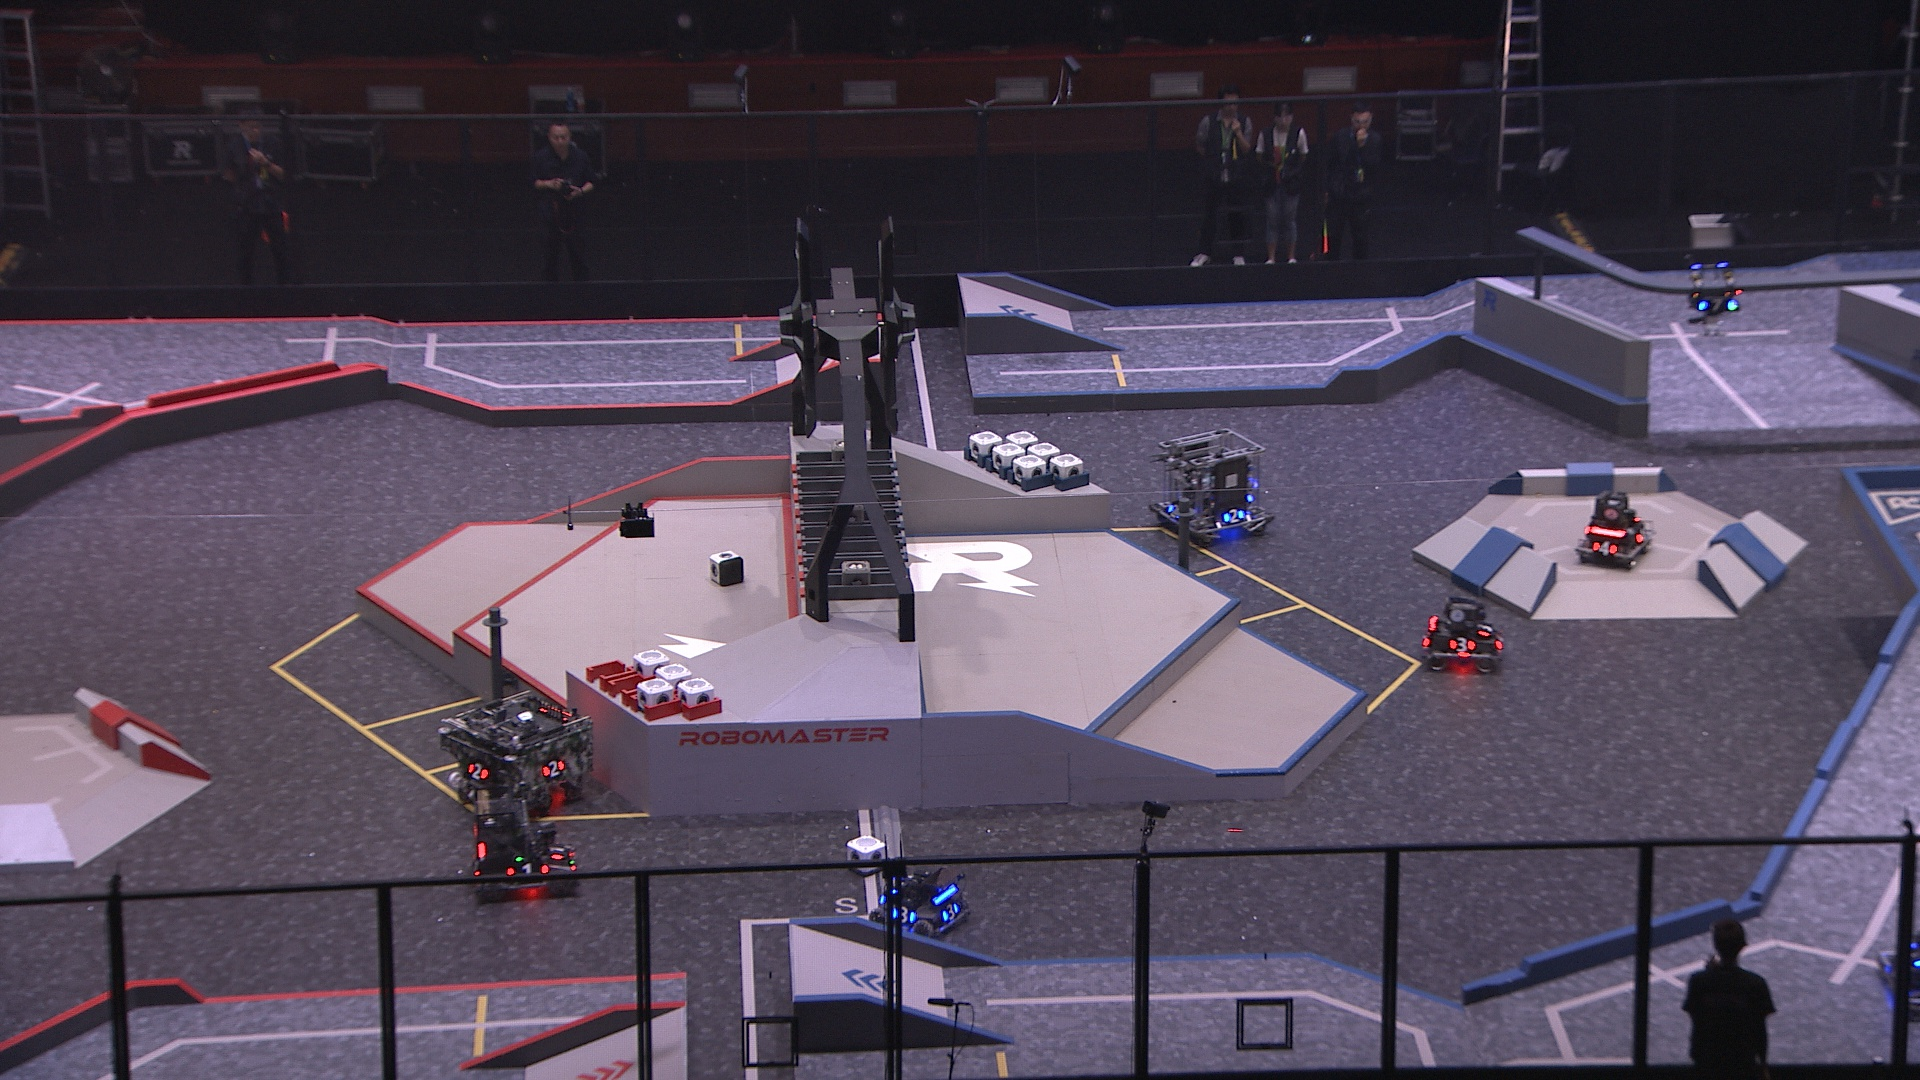armor: (501, 858, 553, 884), (1693, 291, 1737, 316), (938, 898, 965, 924), (463, 760, 491, 785), (539, 756, 568, 779), (891, 903, 918, 928), (1589, 535, 1618, 556), (1447, 636, 1477, 655), (1218, 508, 1247, 526), (547, 841, 568, 862), (1476, 618, 1495, 640), (1487, 632, 1509, 651), (1167, 501, 1183, 520)
car: (436, 688, 593, 822), (1150, 425, 1276, 547), (458, 782, 584, 903), (861, 856, 968, 944), (1418, 593, 1510, 675), (1575, 489, 1656, 571)
watcher: (1677, 249, 1741, 339)
